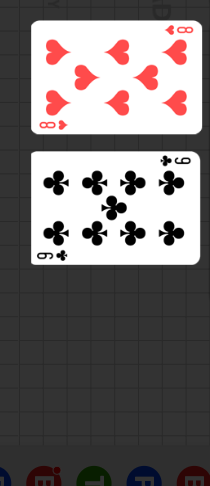9C: (36, 247, 70, 262), (159, 153, 193, 167)
